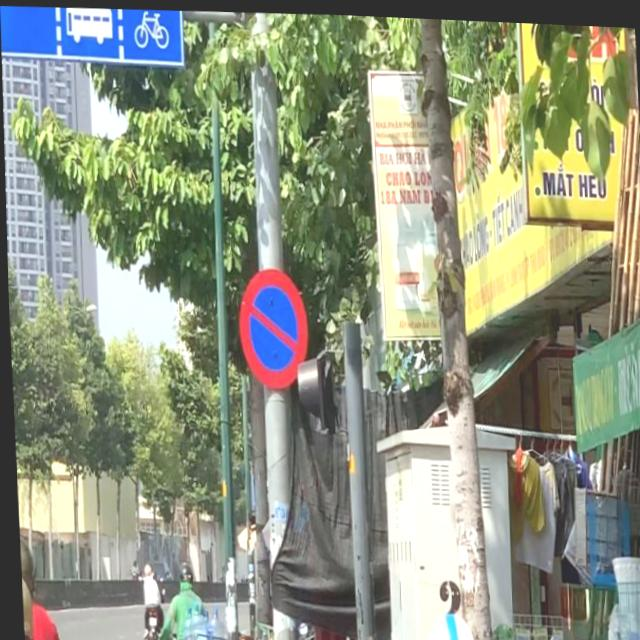Cam do xe: (233, 257, 309, 391)
